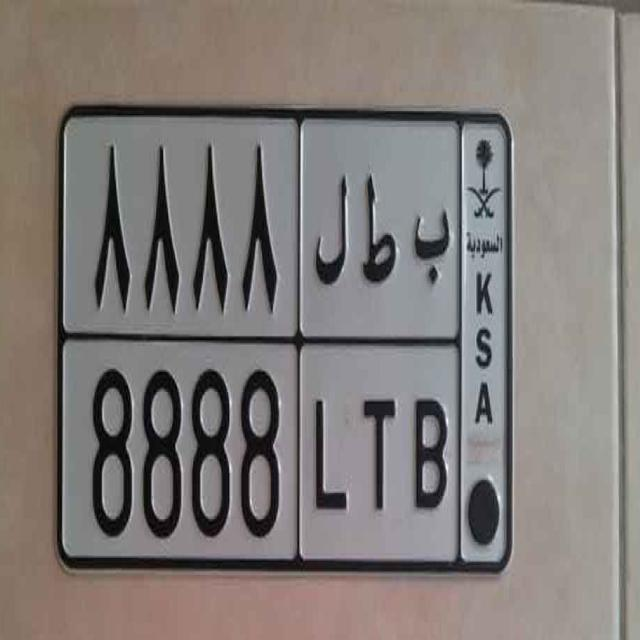license_plate: (82, 355, 454, 540)
